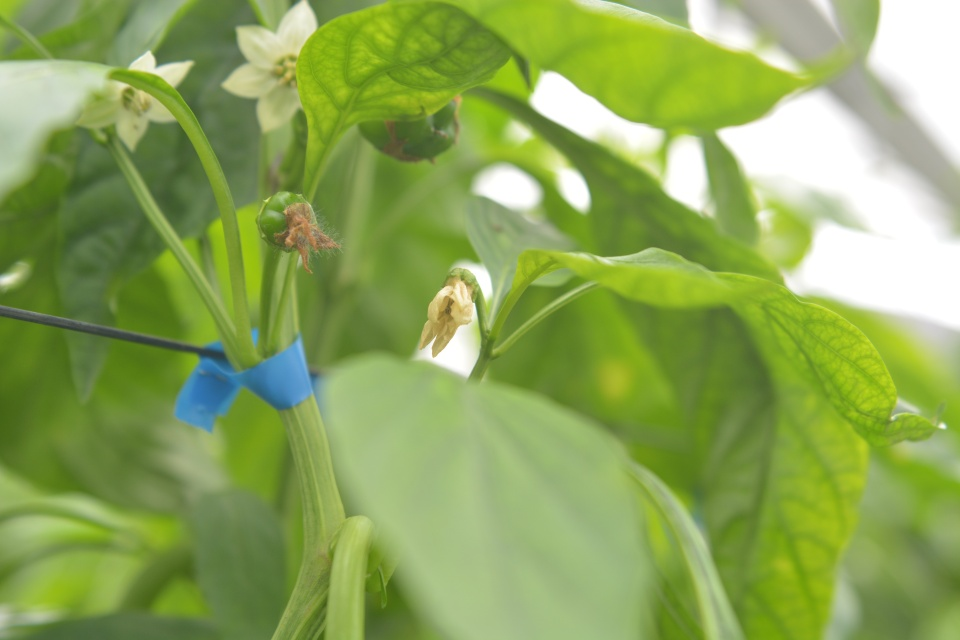flower: (216, 0, 320, 136), (72, 48, 198, 152)
immature: (254, 186, 347, 276), (355, 96, 464, 165)
